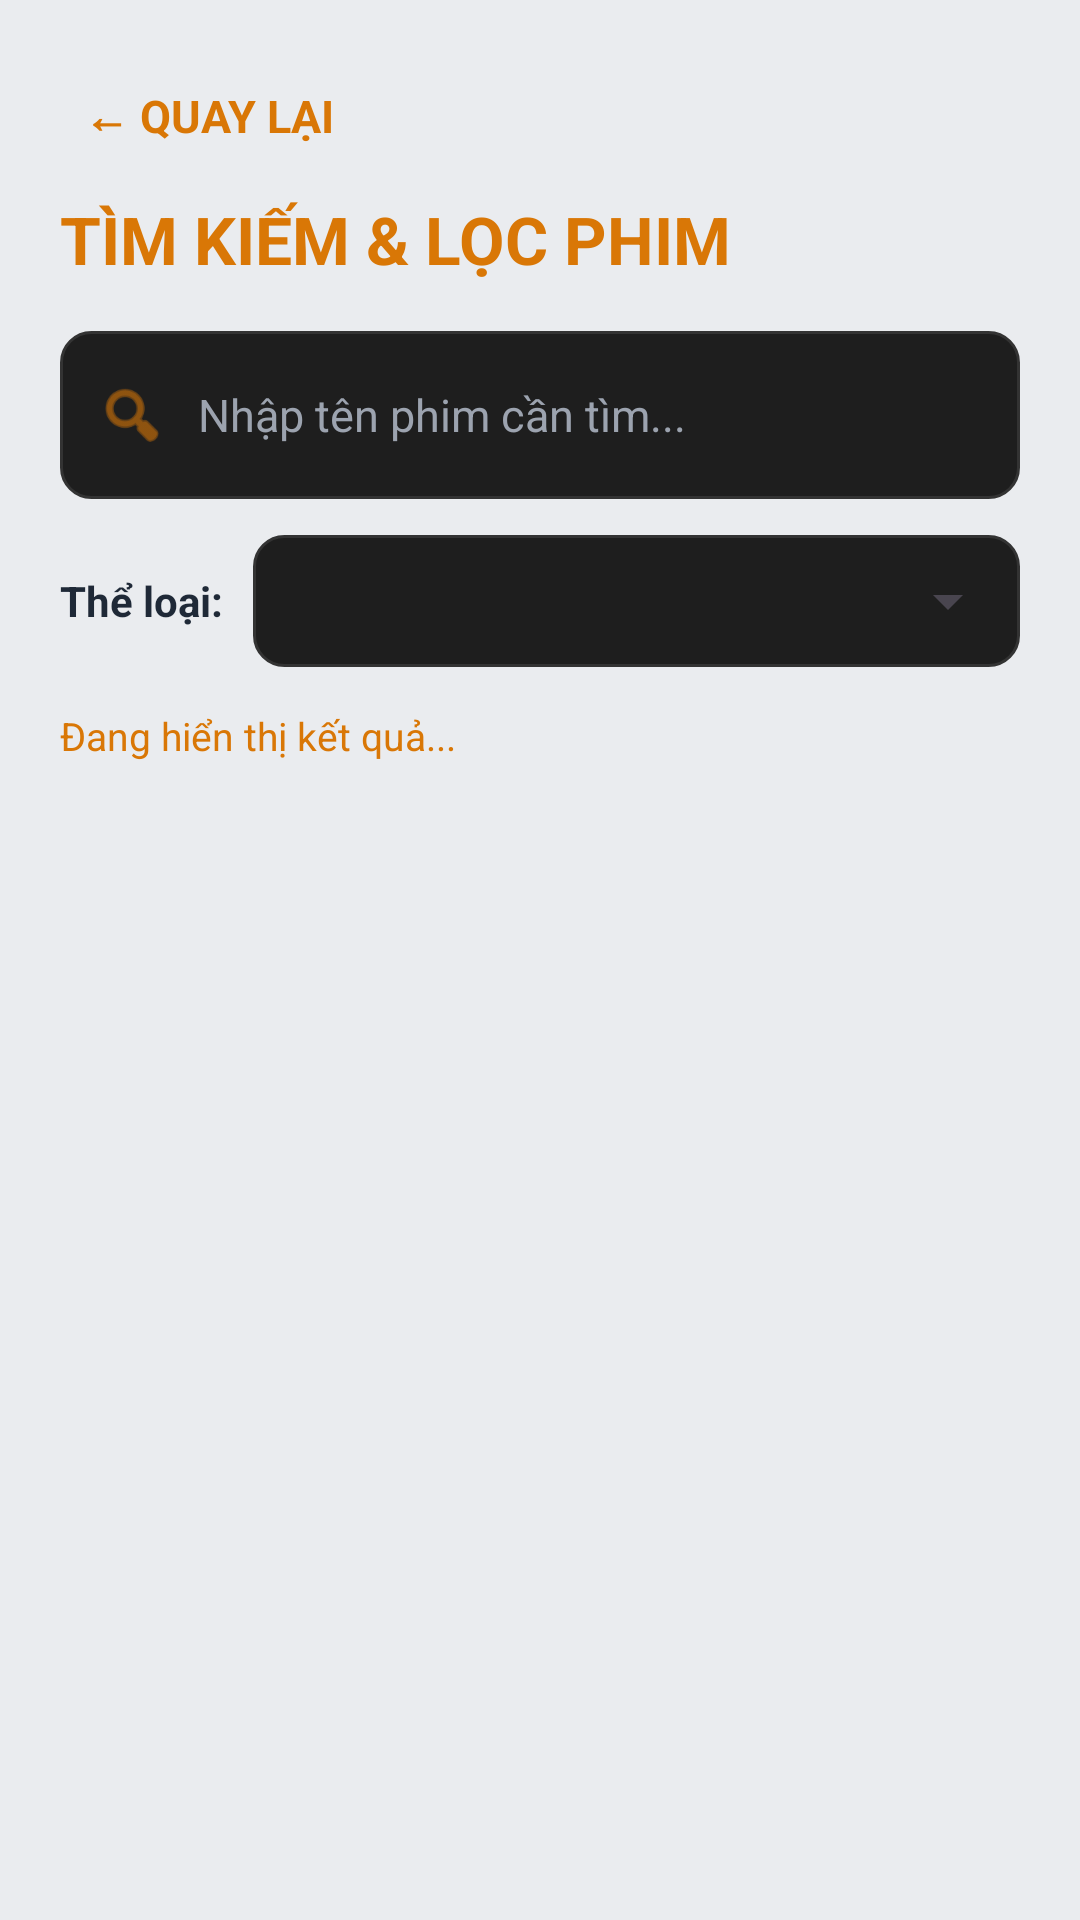

Named icons in this screenshot (1080px x 1920px) and their centers, [x,y]:
Search Icon: [132,415]
